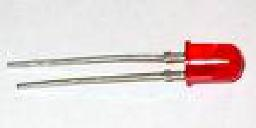LED: (7, 40, 246, 92)
